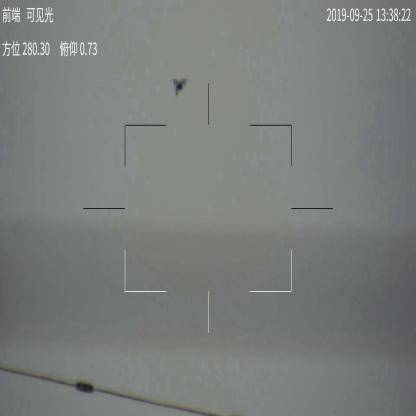uav: (172, 76, 188, 97)
